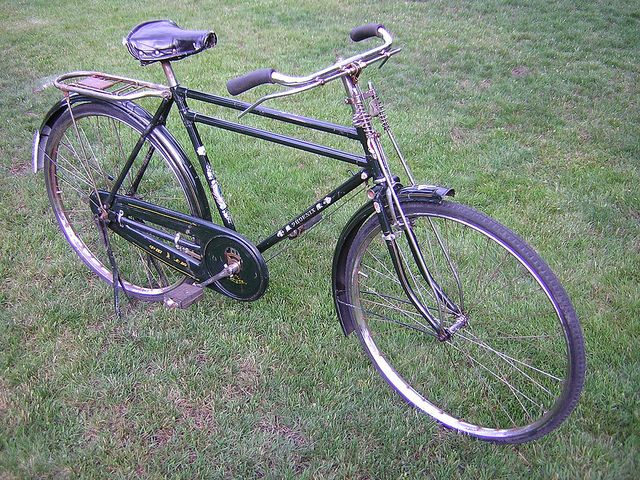cycle: (25, 18, 609, 458)
